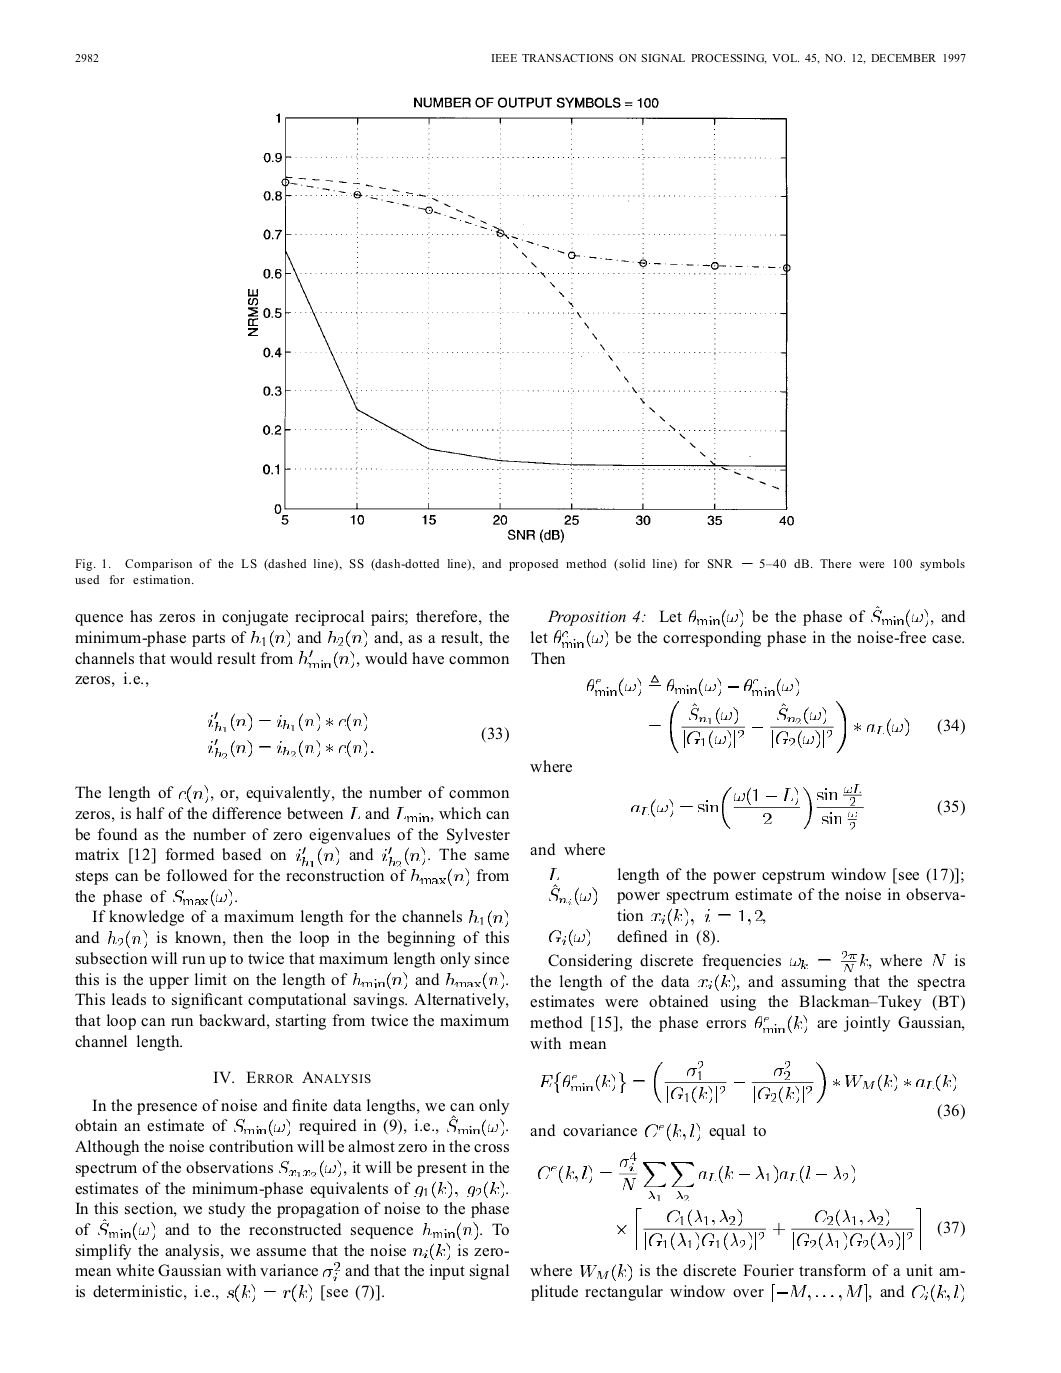figure: (249, 111, 794, 543)
formula: (541, 1060, 964, 1120), (649, 700, 964, 753), (631, 782, 964, 830), (538, 1151, 854, 1201), (617, 1207, 964, 1250), (208, 711, 508, 759), (587, 674, 798, 697)
